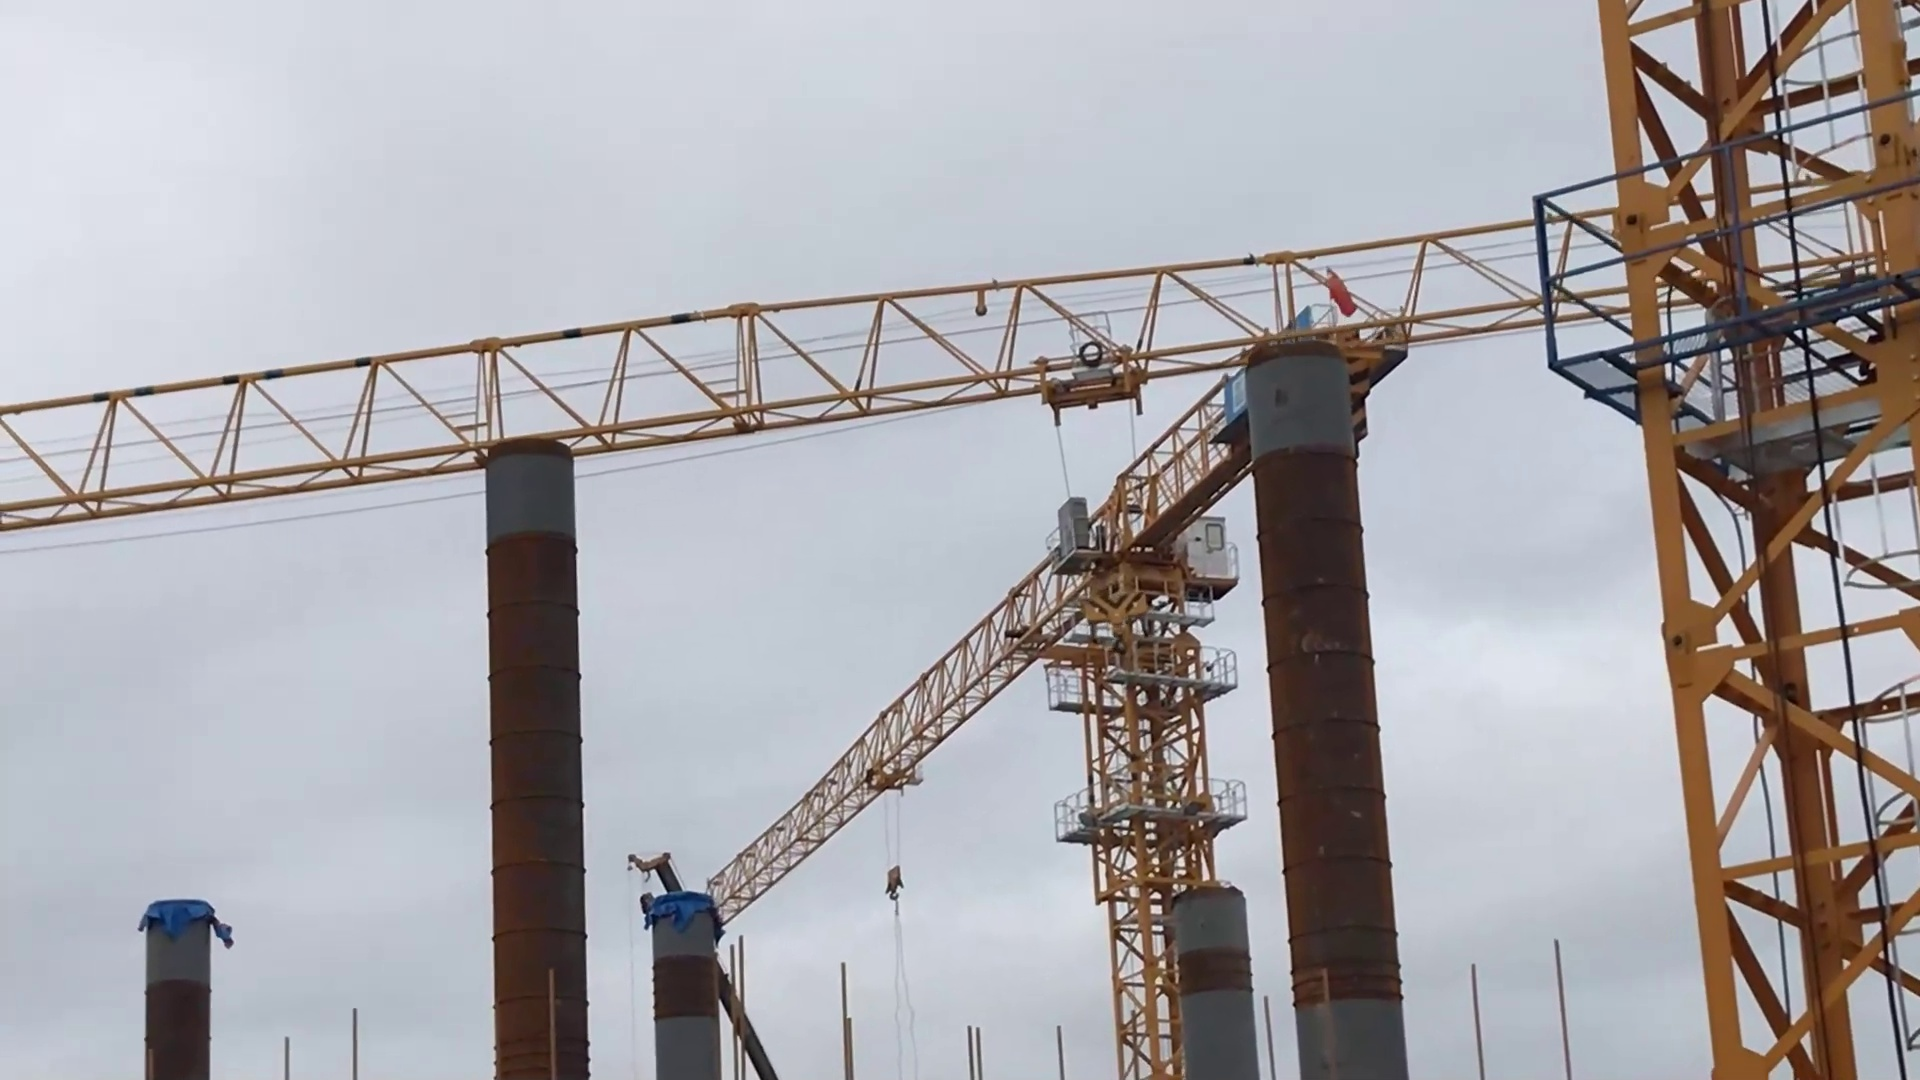hook: (872, 855, 934, 914)
